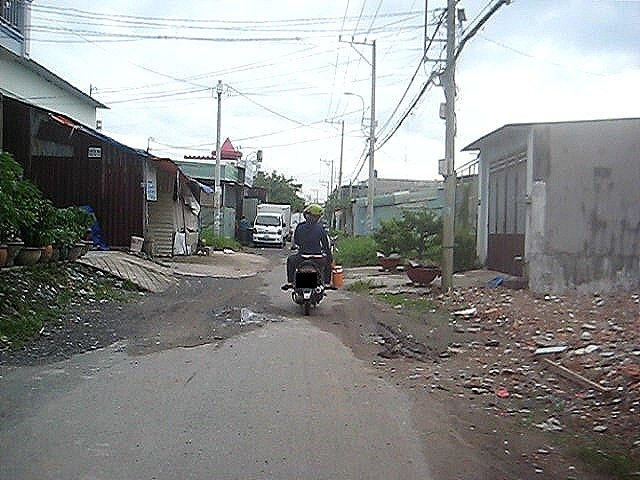hole: (211, 302, 276, 326)
